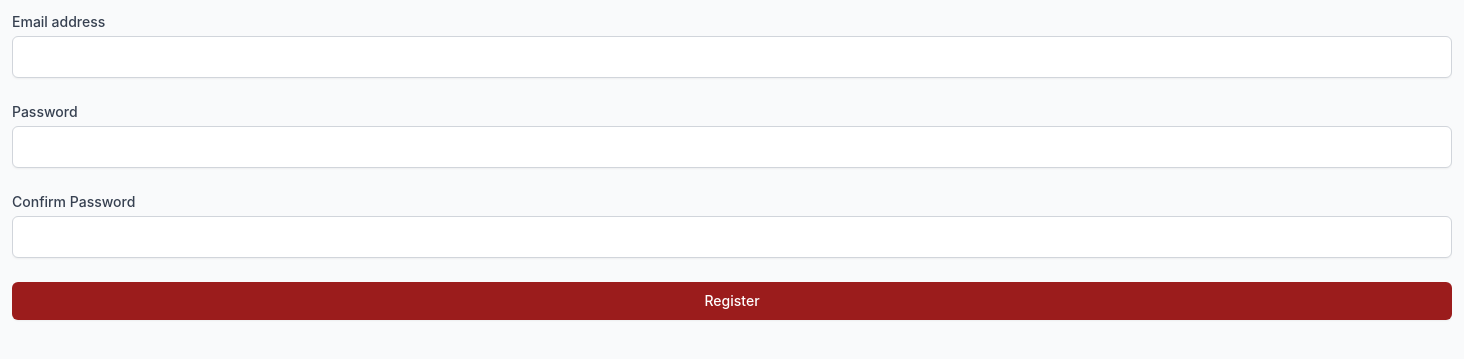
Scenario: RegisterForm › Form validation › shows error when passwords do not match
Type "test@example.com" into the field labelled "Email address".
click(732, 57); type("test@example.com")  # box [12,36,1452,78]
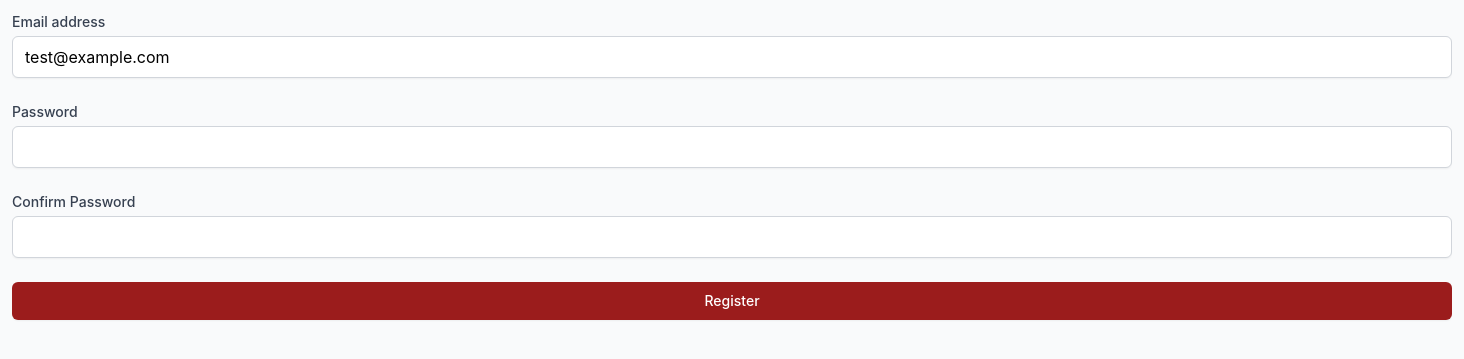
Type "password123" into the password field labelled "Password".
click(732, 147); type("password123")  # box [12,126,1452,168]
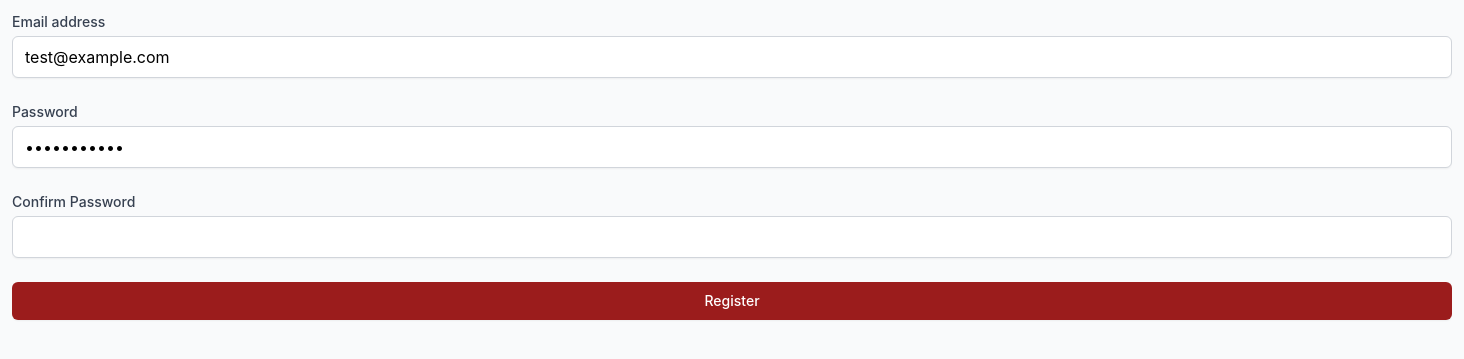
Type "different123" into the password field labelled "Confirm Password".
click(732, 237); type("different123")  # box [12,216,1452,258]
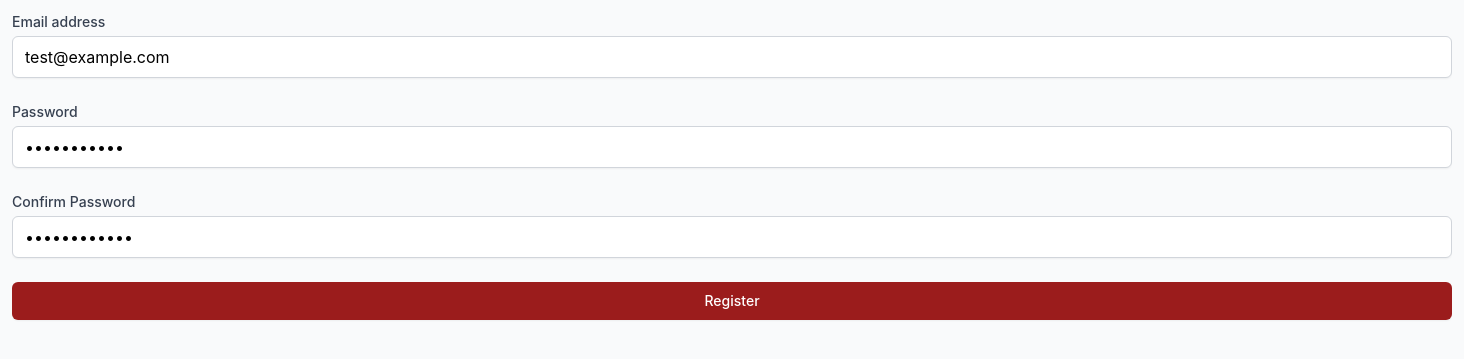
Click the button "Register".
click(732, 301)  # box [12,282,1452,320]
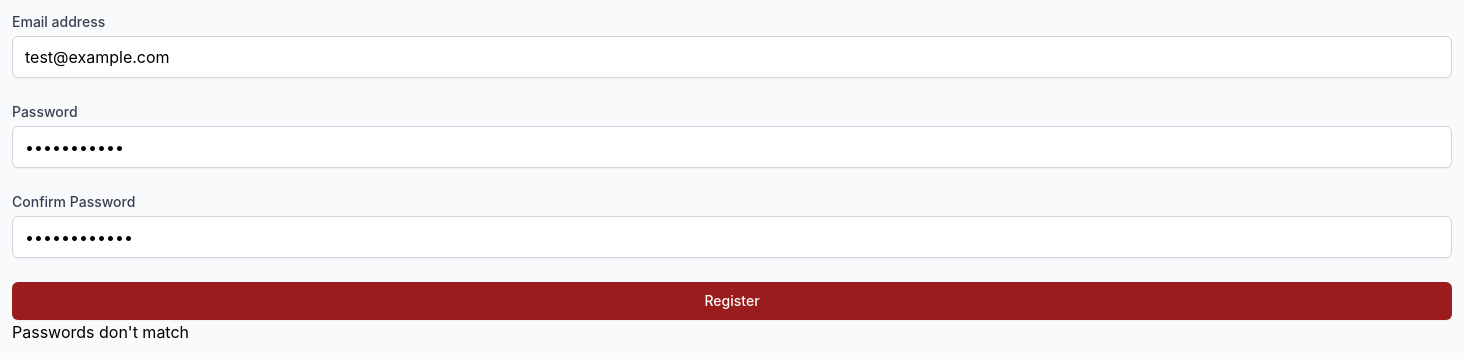
Expected: the text with test id "mock-toast" reads "Passwords don't match", [12,322,189,342]
